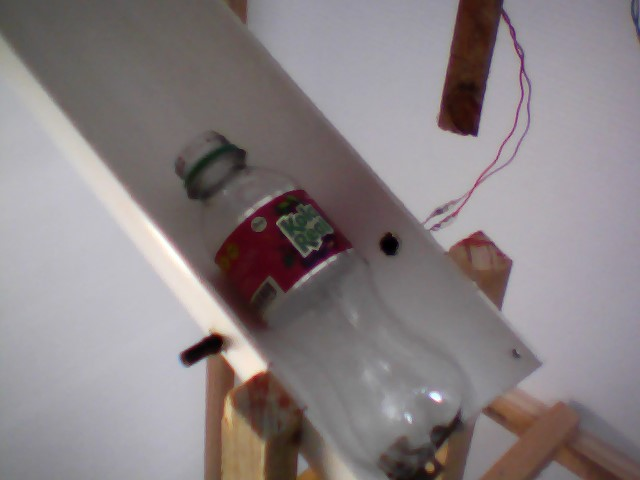plastico: (162, 121, 488, 480)
